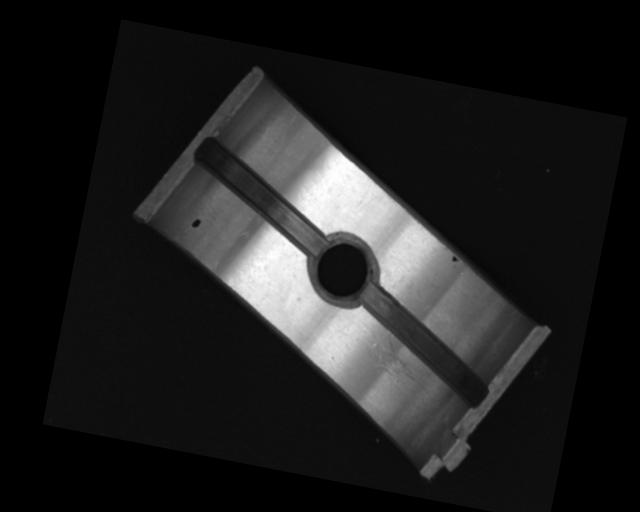blot: (189, 216, 202, 230), (450, 254, 461, 264)
gap: (346, 279, 504, 409), (185, 137, 338, 256)
hole: (305, 229, 380, 309)
scratch: (366, 326, 443, 396)
